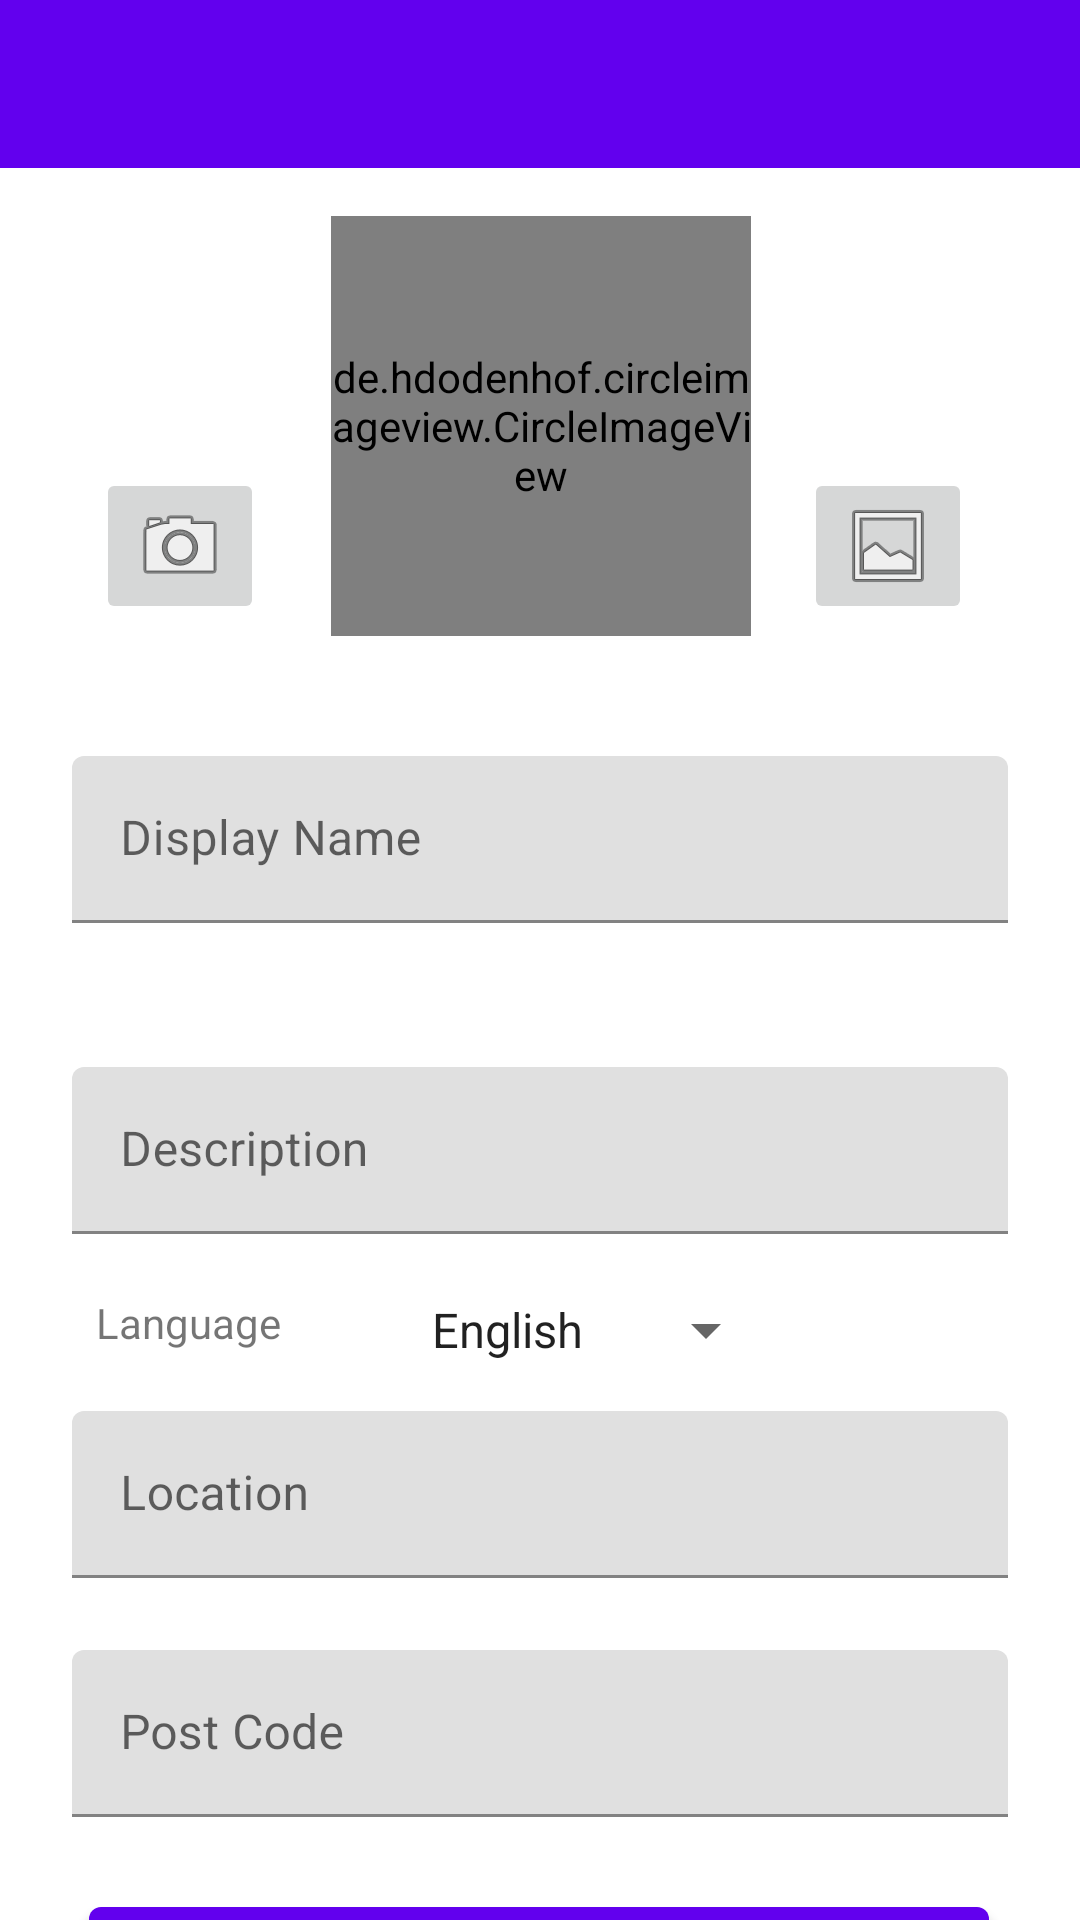

Screen size 1080×1920. Icon name, then its center in pixels as (x=x, y=y):
camera: (x=180, y=546)
gallery: (x=888, y=546)
